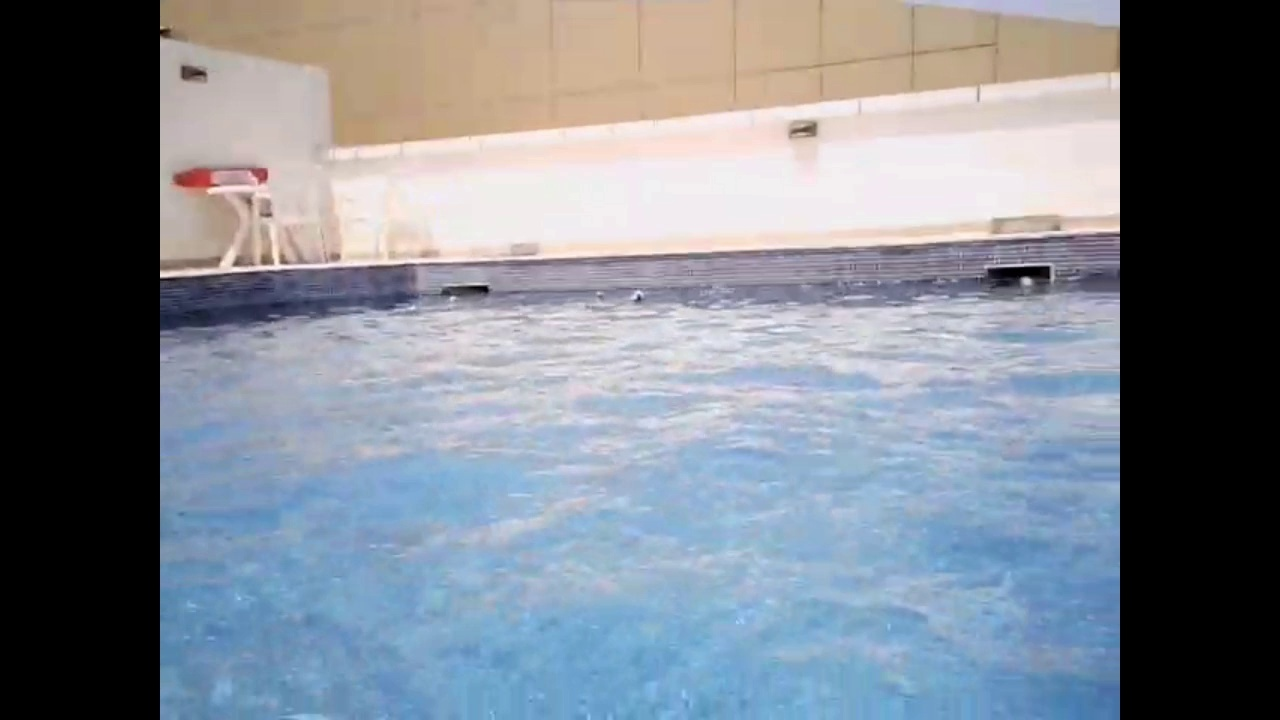debris: (1017, 274, 1038, 295), (626, 289, 649, 305), (446, 292, 463, 307), (590, 290, 609, 303)
